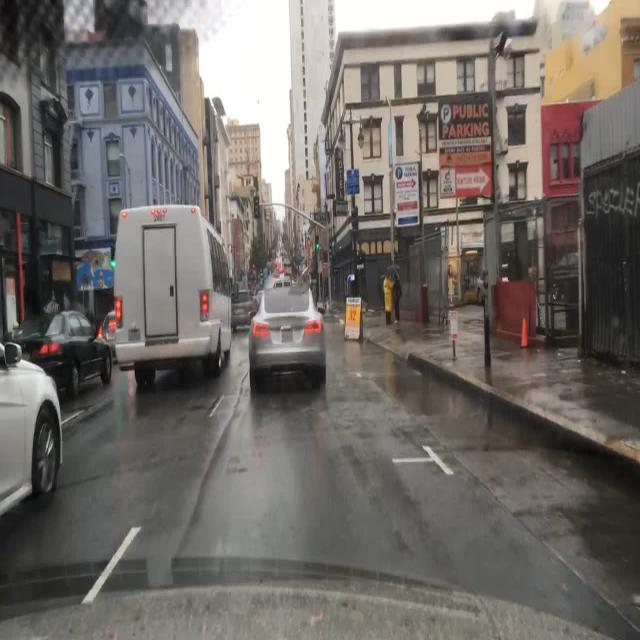car: (111, 198, 234, 390), (0, 331, 62, 521), (9, 304, 114, 390), (248, 283, 326, 389), (231, 290, 256, 332), (101, 309, 118, 362), (272, 277, 292, 289)
pearson: (392, 268, 404, 323), (382, 271, 394, 325)
